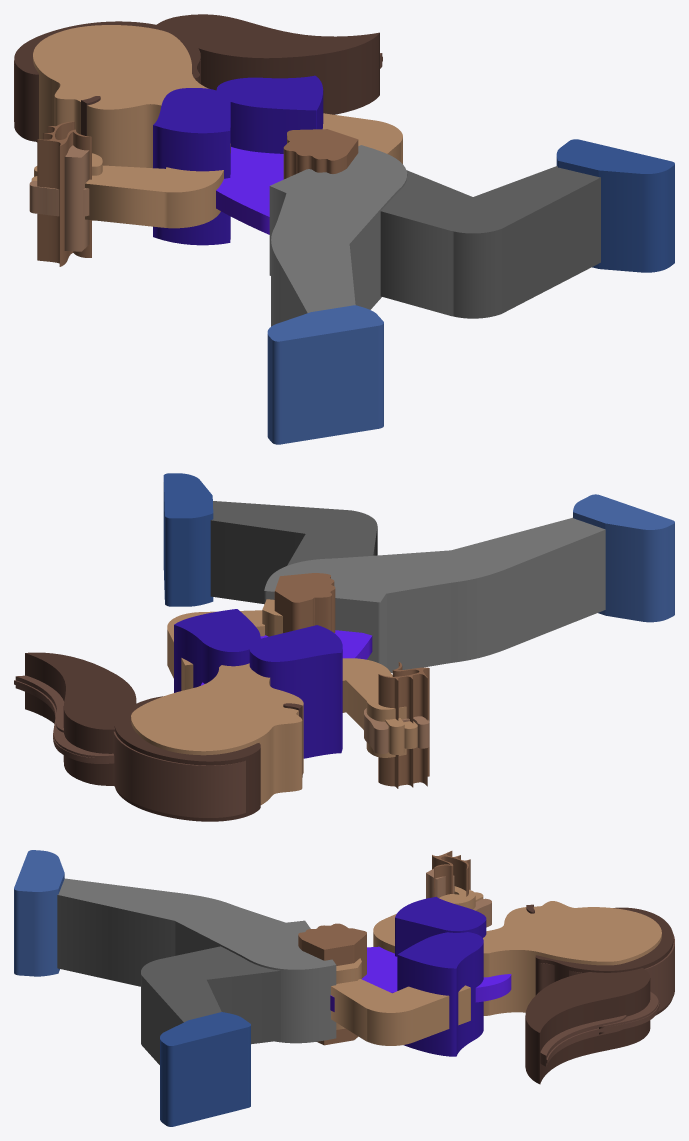
File: emoji_u1f3c3_1f3fd_200d_2640.glb
3 renders of one model, top to bottom at view 1: azimuth 30°, elevation 25°; view 2: azimuth 150°, elevation 25°; view 3: azimuth 270°, elevation 25°, orthographic. The views are drawn at different scales.
Visible parts, largest first — view 1: emoji_u1f3c3_1f3fd_200d_2640; view 2: emoji_u1f3c3_1f3fd_200d_2640; view 3: emoji_u1f3c3_1f3fd_200d_2640.
Boxes of the visible parts, box(x1,y1,x2,y2) form: emoji_u1f3c3_1f3fd_200d_2640: box(14, 14, 674, 444); emoji_u1f3c3_1f3fd_200d_2640: box(14, 473, 674, 821); emoji_u1f3c3_1f3fd_200d_2640: box(14, 850, 674, 1126).
Size of the model in its own units: 0.0227 by 0.0054 by 0.0326.
